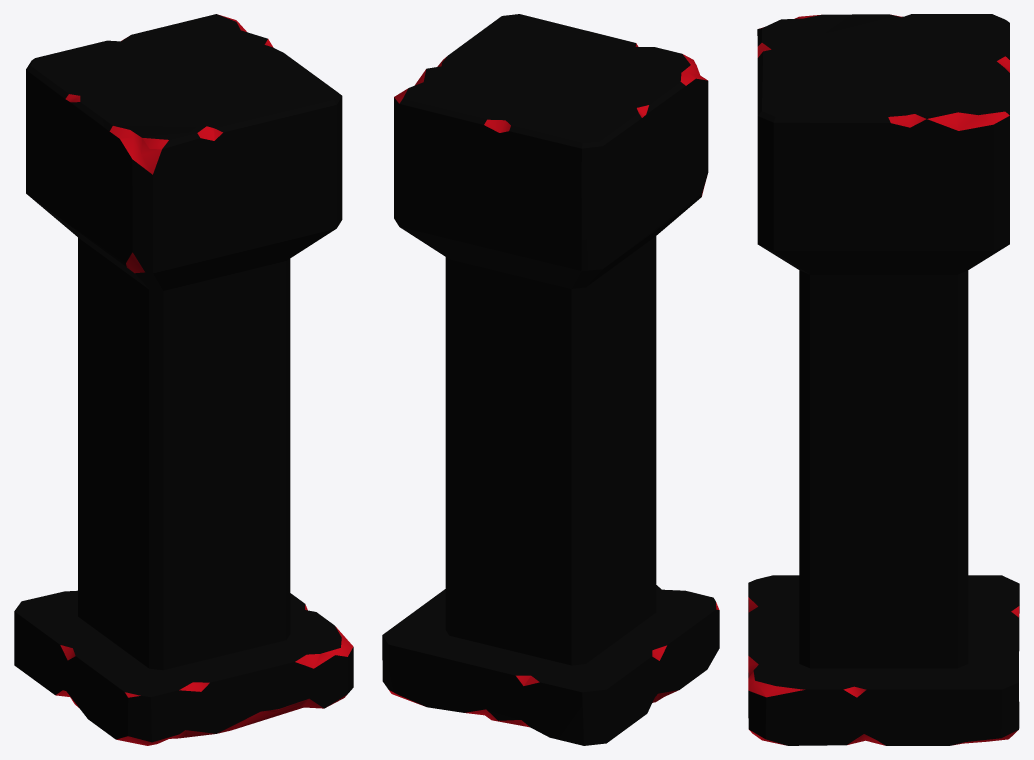
Rendered from FenceSeparator.fbx.
The picture shows the model from 3 angles, left to right: view 1: azimuth 30°, elevation 25°; view 2: azimuth 150°, elevation 25°; view 3: azimuth 270°, elevation 25°; orthographic projection. The views are drawn at different scales.
Visible parts, largest first — view 1: FenceSeparator; view 2: FenceSeparator; view 3: FenceSeparator.
Part boxes in pixels (bbox=[...]): FenceSeparator: bbox=[14, 14, 353, 745]; FenceSeparator: bbox=[382, 14, 719, 745]; FenceSeparator: bbox=[748, 14, 1019, 745].
Bounding box in the file's own units: 48.01 × 48.15 × 122.
